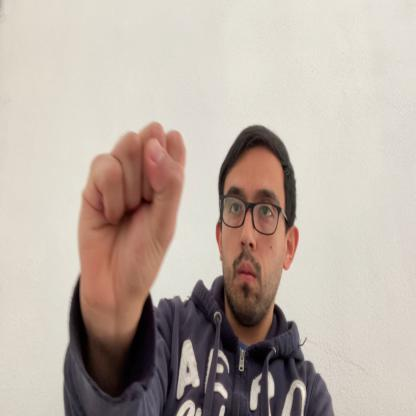S: (78, 122, 185, 304)
